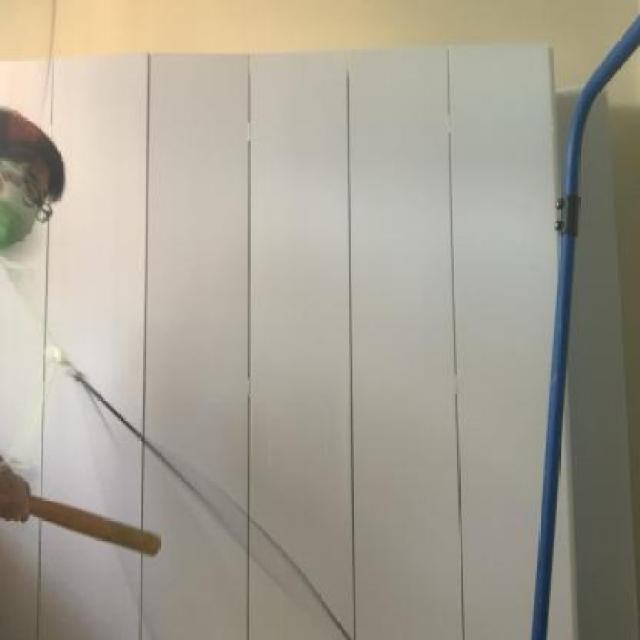baseball: (0, 192, 51, 262)
